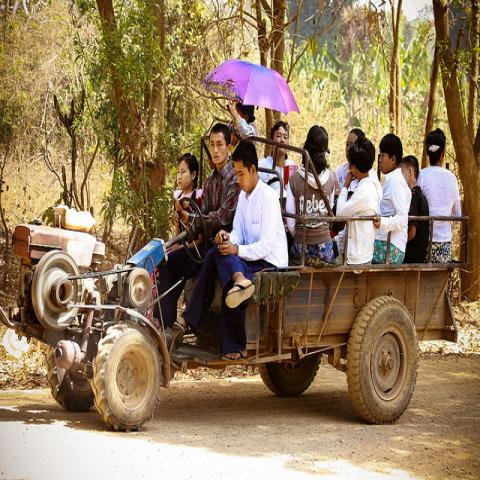truck: (0, 196, 458, 433)
